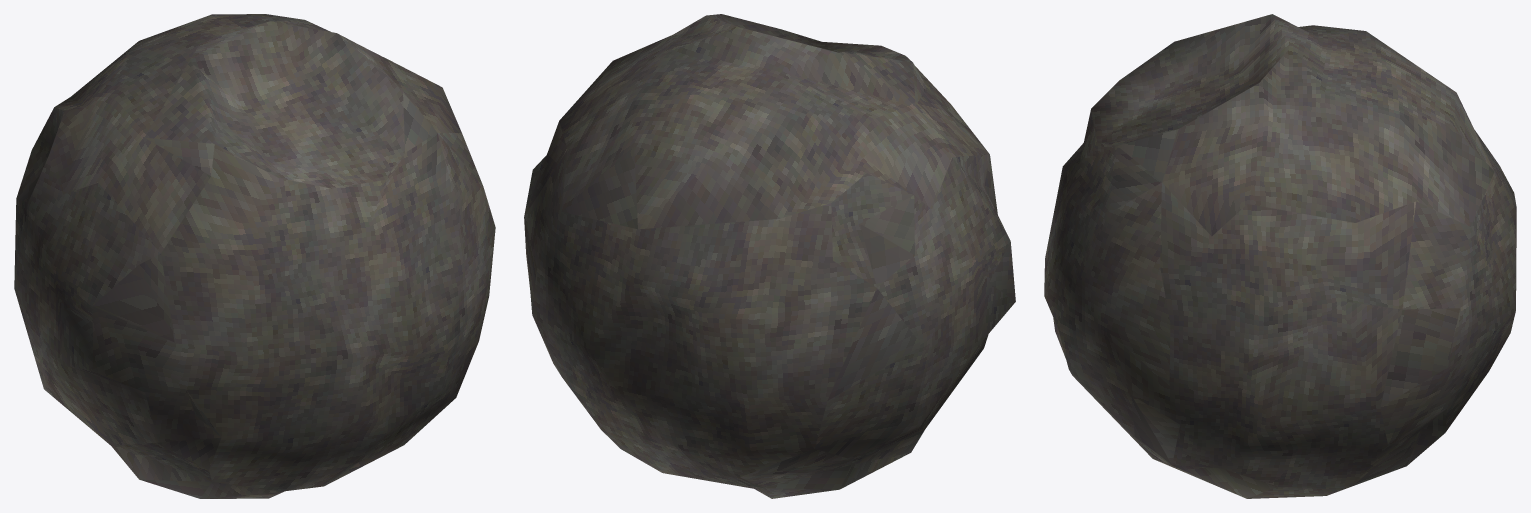
File: HikeGardenCannonRelayPlanetLow.fbx
3 views of the same model, side by side, from view 1: azimuth 30°, elevation 25°; view 2: azimuth 150°, elevation 25°; view 3: azimuth 270°, elevation 25° (orthographic).
Visible parts, largest first — view 1: mesh-0; view 2: mesh-0; view 3: mesh-0.
Part boxes in pixels (<box>): mesh-0: <box>14,14,495,498</box>; mesh-0: <box>524,14,1015,498</box>; mesh-0: <box>1044,14,1516,498</box>.
Size of the model in its own units: 62768 by 63125 by 62079.
Materials: 1 (1 with a texture image).
